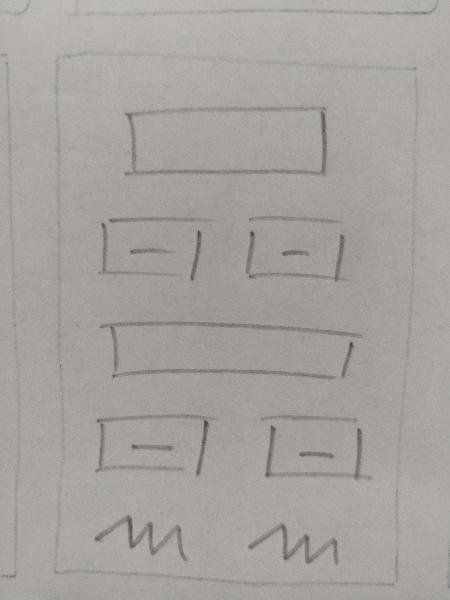button: (87, 203, 219, 287), (250, 407, 373, 488), (242, 205, 358, 290), (86, 409, 218, 478)
text: (239, 509, 356, 572), (88, 501, 199, 566)
text_input: (91, 315, 371, 389), (106, 100, 346, 182)
